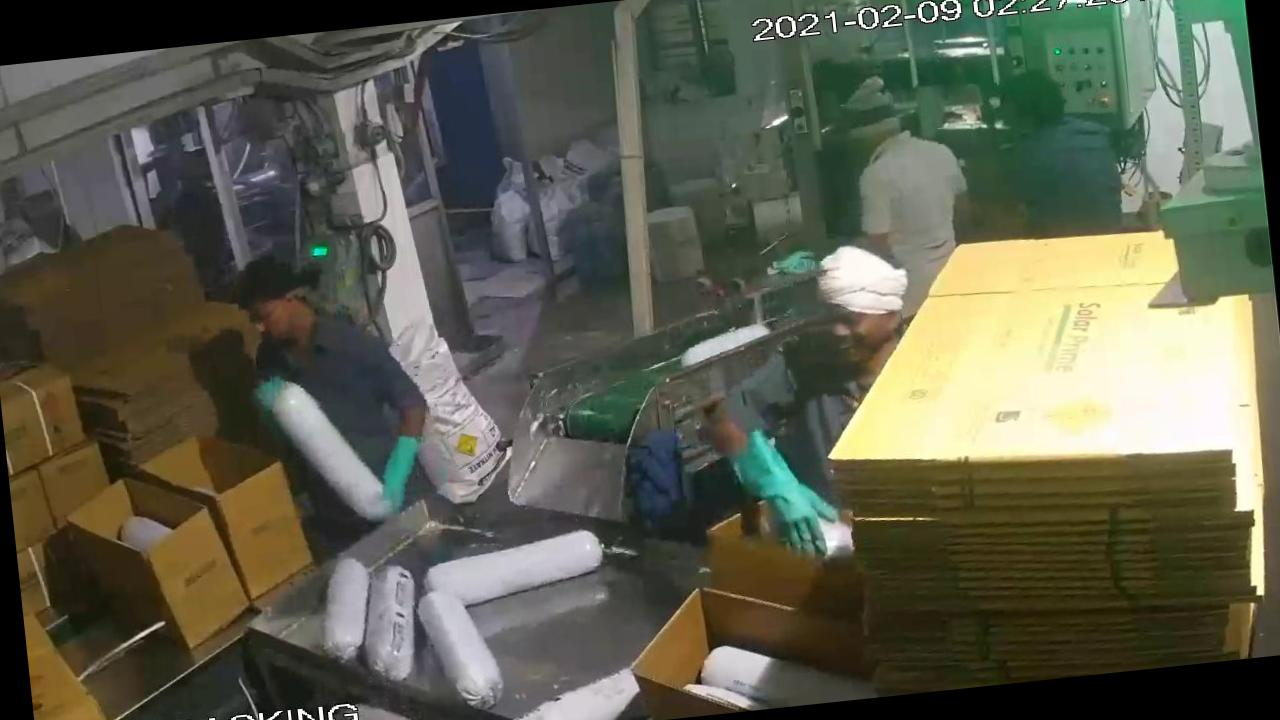Gloves: (718, 413, 851, 576), (360, 414, 440, 527), (232, 364, 317, 448)
